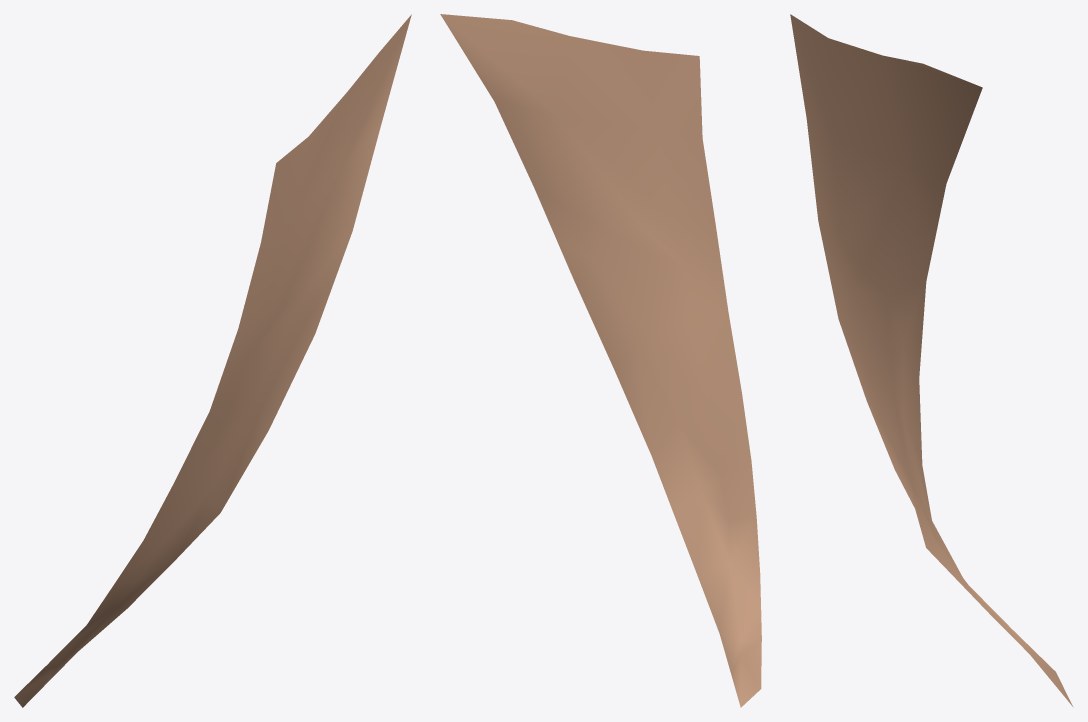
File: inguinal-region-l.glb
The picture shows the model from 3 angles, left to right: view 1: azimuth 30°, elevation 25°; view 2: azimuth 150°, elevation 25°; view 3: azimuth 270°, elevation 25°; orthographic projection. The views are drawn at different scales.
Visible parts, largest first — view 1: Inguinal region.l; view 2: Inguinal region.l; view 3: Inguinal region.l.
Boxes of the visible parts, bbox=[...] form: Inguinal region.l: bbox=[14, 14, 411, 707]; Inguinal region.l: bbox=[440, 14, 761, 707]; Inguinal region.l: bbox=[790, 14, 1073, 707].
Bounding box in the file's own units: 0.092 × 0.1497 × 0.045.
